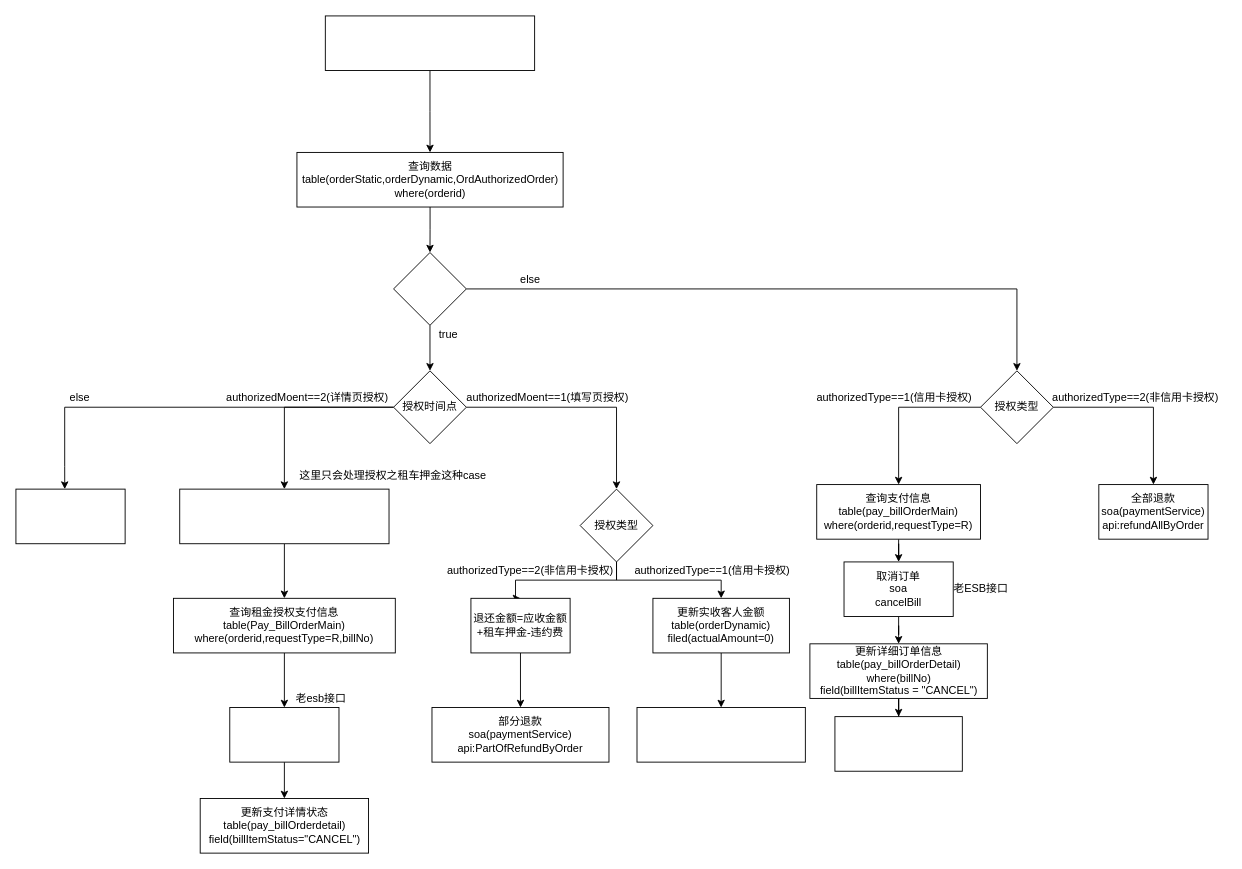
The diagram is 1242 pixels wide and 869 high, and some of its shapes have lost their labels. The shapes that lost their labels are listed below. From the top down, each one's centre as x and y in pixels, then its label:
point 429,43: PreAuthorizationPostProcessing
point 429,288: 转扣金额>0
point 70,516: 发告警邮件 非预期的授权订单解冻信息
point 284,516: 查询租金授权费用记录 table(Ord_ISDprepaymentNotifucation) where(orderid,preAuthType==5)
point 284,734: 取消订单
point 720,734: 转扣 soa(paymenService) api:deductPreAuthorizationBill
point 898,743: 更新订单信息 table(ord_orderDynamic) field(actualAmount=0)
